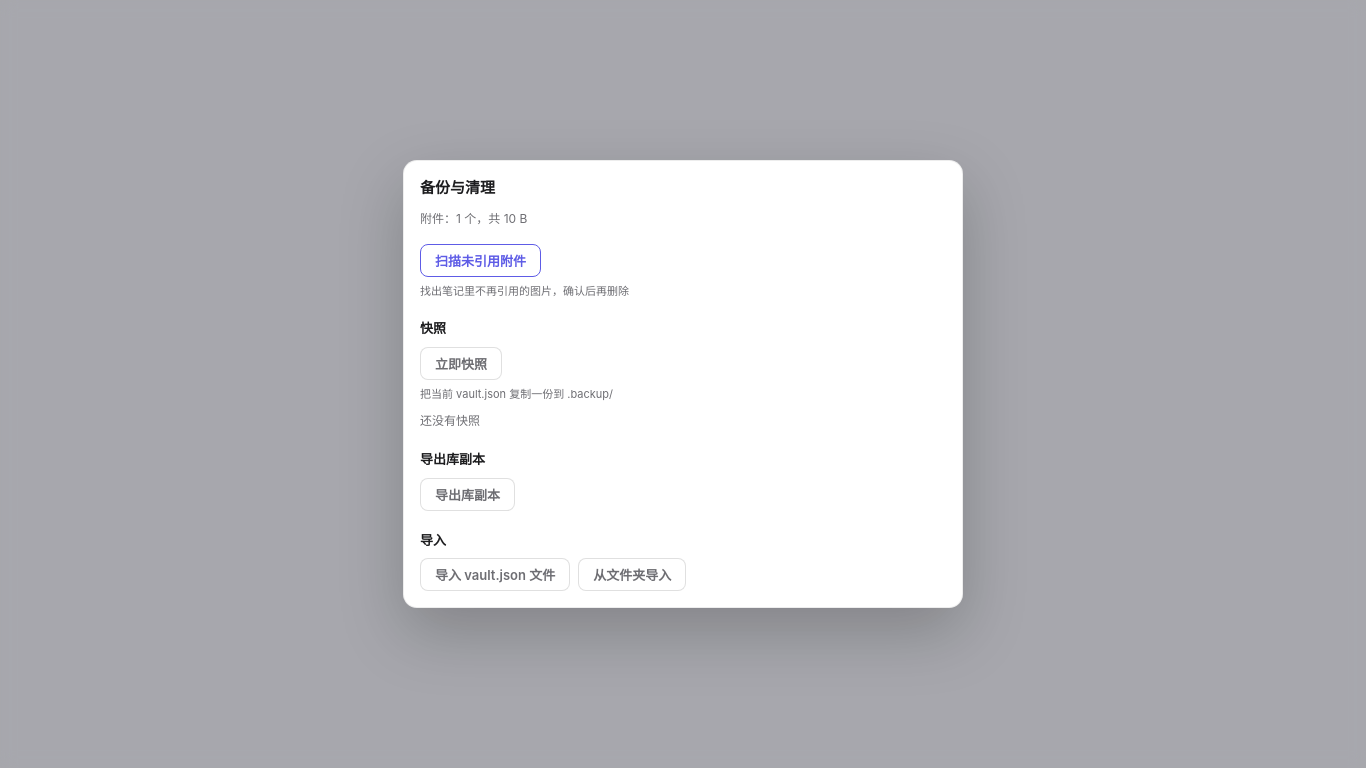
Test: T26-2 · 扫描 → 展示预览（先看清再确认） › preview 失败时展示错误，不进确认态
The image size is (1366, 768).
What coordinates should you click on to do the following:
click the button with test id "backup-gc-scan"
I would click on:
 (480, 260)
Its box is [420, 244, 541, 276].
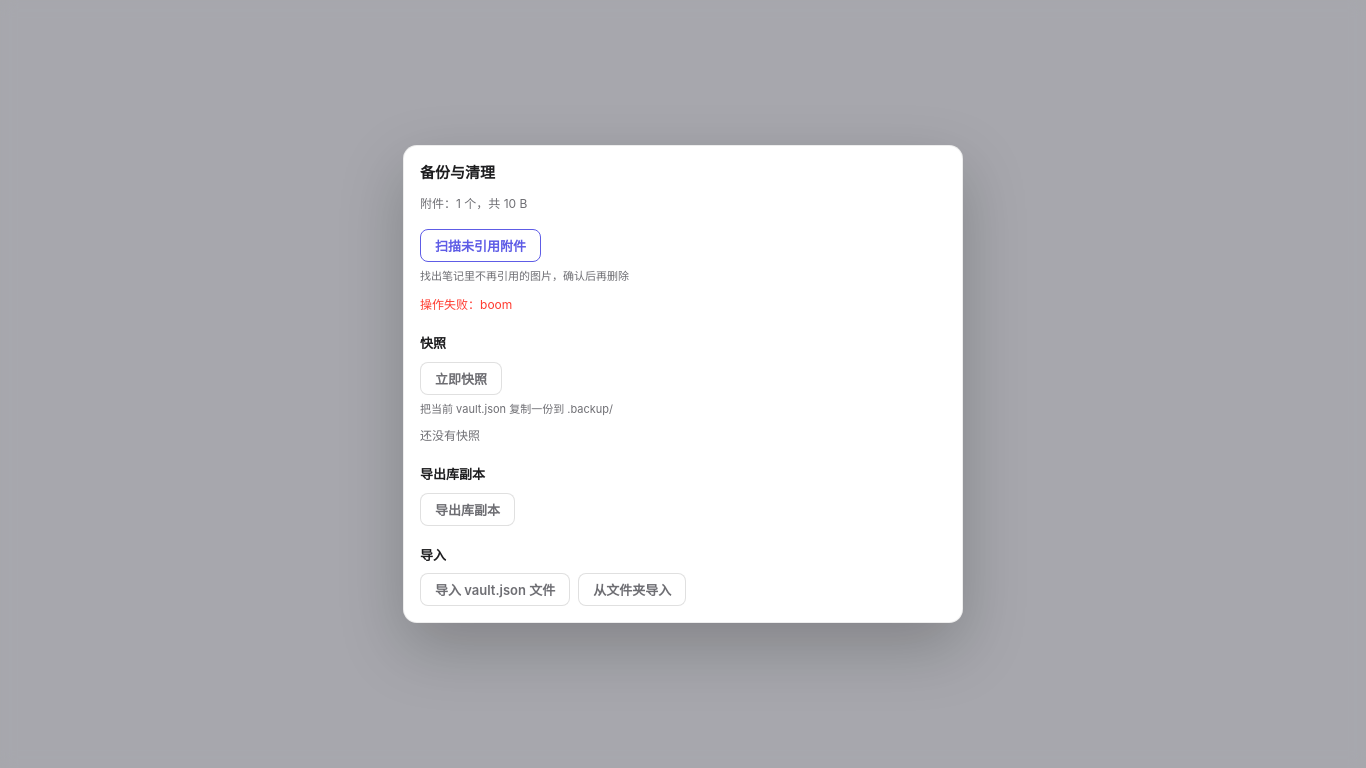
Expected: the text "操作失败：boom" is shown, [420, 297, 512, 312]
